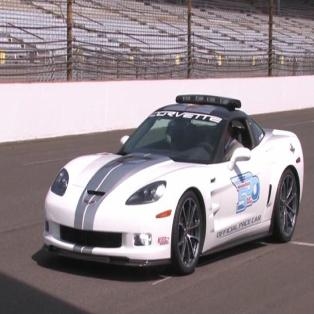Auto: (42, 93, 304, 280)
